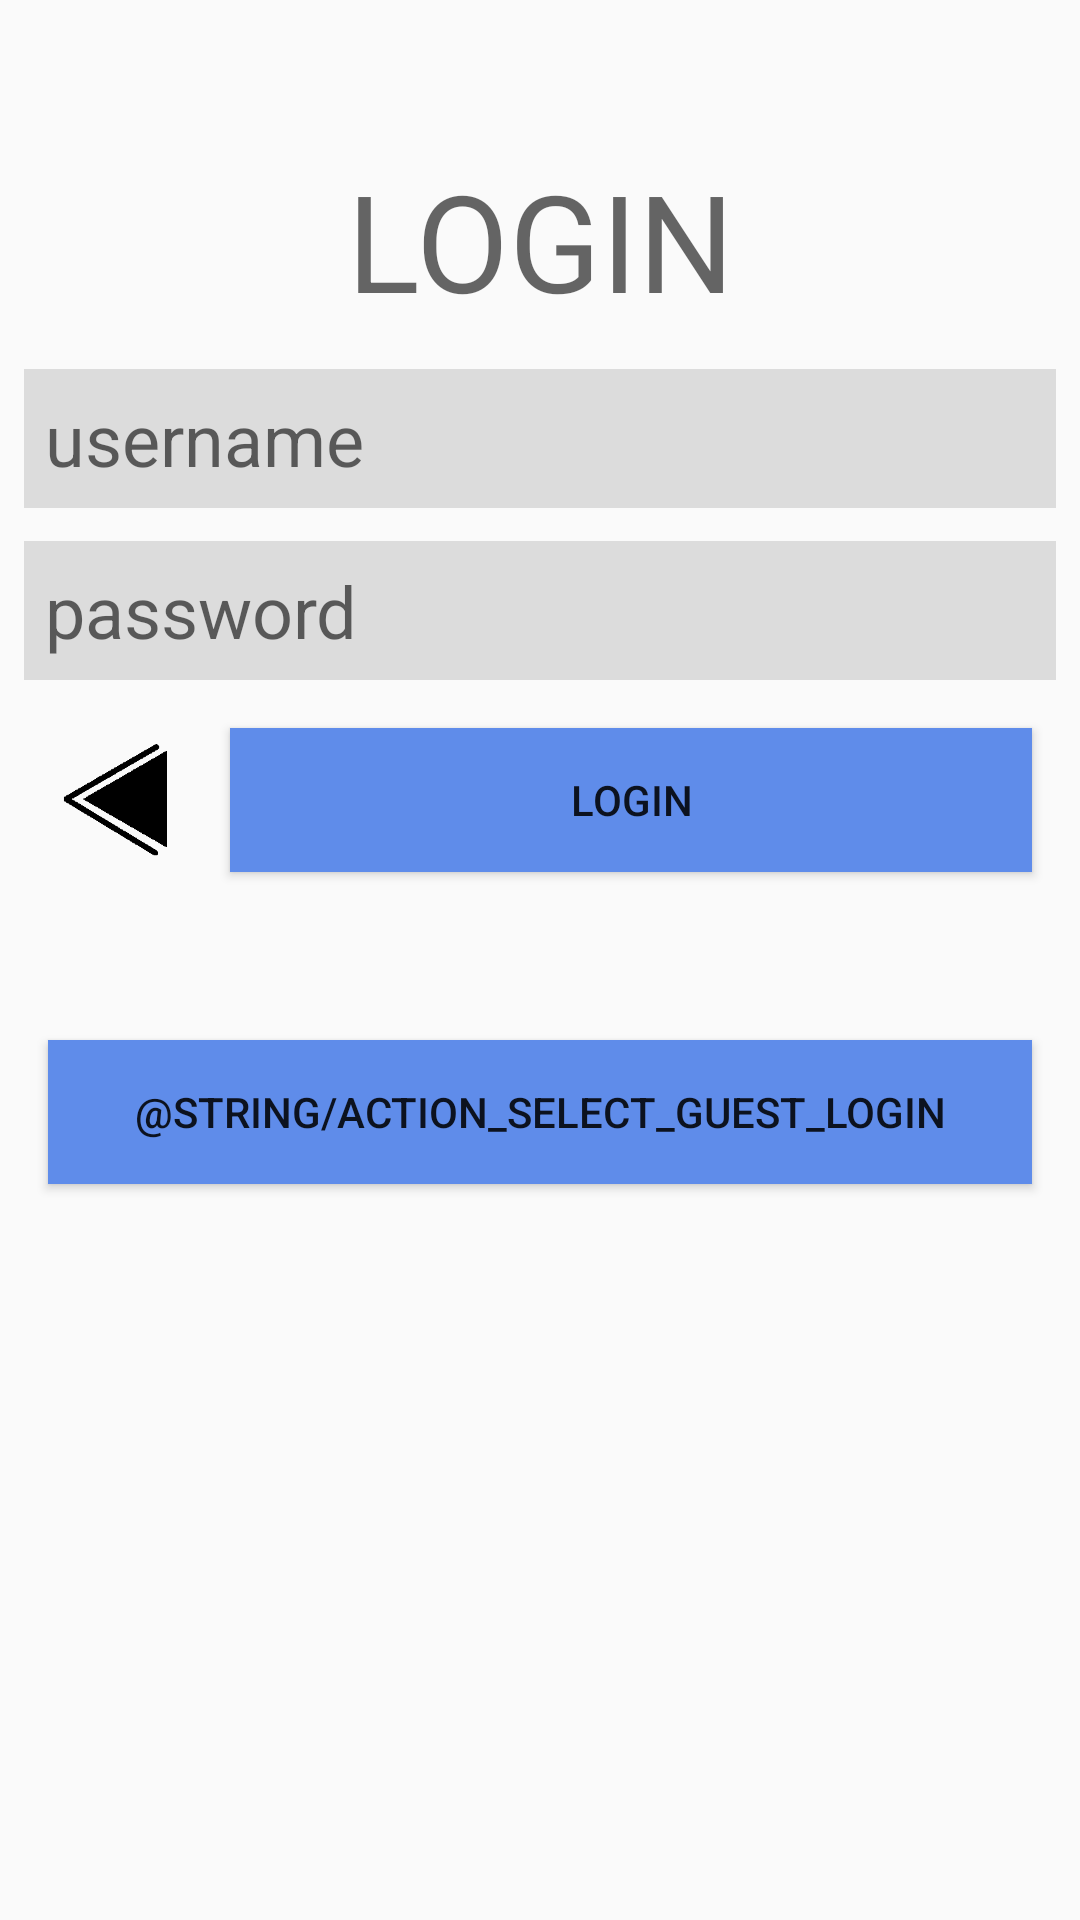

Icons on this 1080 x 1920 Android screen, each with its box as [x1, y1, x2, y2]:
Back: [64, 744, 167, 856]
